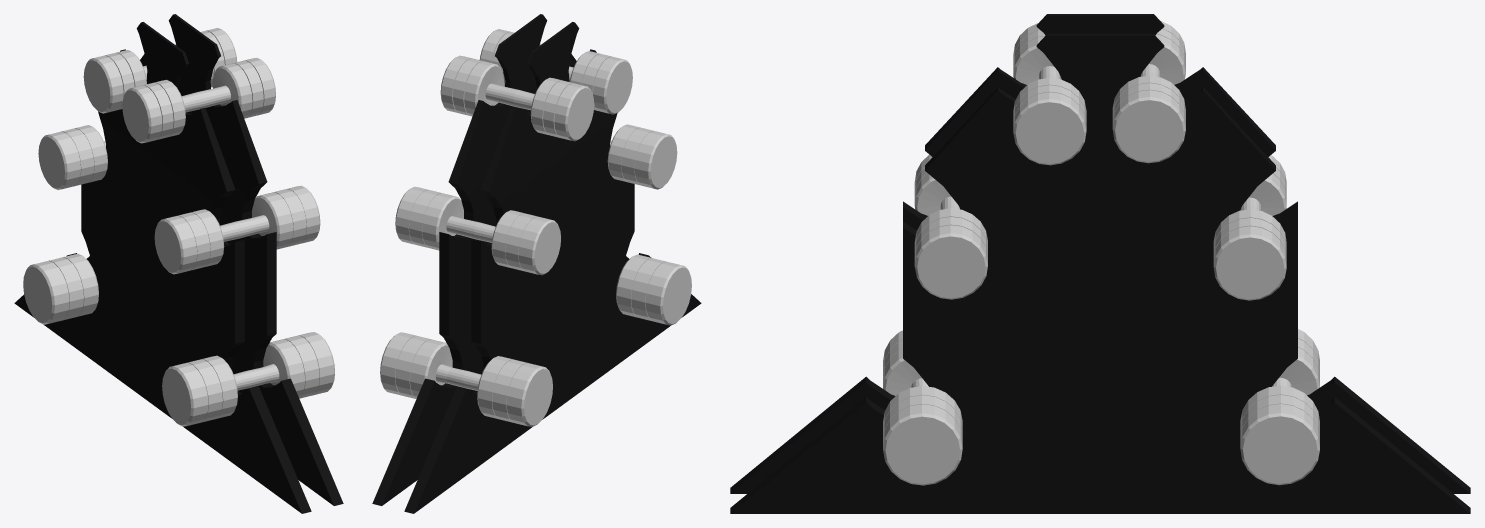
File: ChromeDumbbellSet.001.fbx
3 renders of one model, left to right at view 1: azimuth 30°, elevation 25°; view 2: azimuth 150°, elevation 25°; view 3: azimuth 270°, elevation 25°, orthographic. The views are drawn at different scales.
Parts seen in each view (by area): view 1: ChromeDumbbellSet2; view 2: ChromeDumbbellSet2; view 3: ChromeDumbbellSet2.
Part boxes in pixels (x1,y1,x2,y2): ChromeDumbbellSet2: [14, 14, 343, 513]; ChromeDumbbellSet2: [372, 14, 701, 513]; ChromeDumbbellSet2: [730, 14, 1470, 513].
Size of the model in its own units: 25.2 by 61.88 by 87.22.
